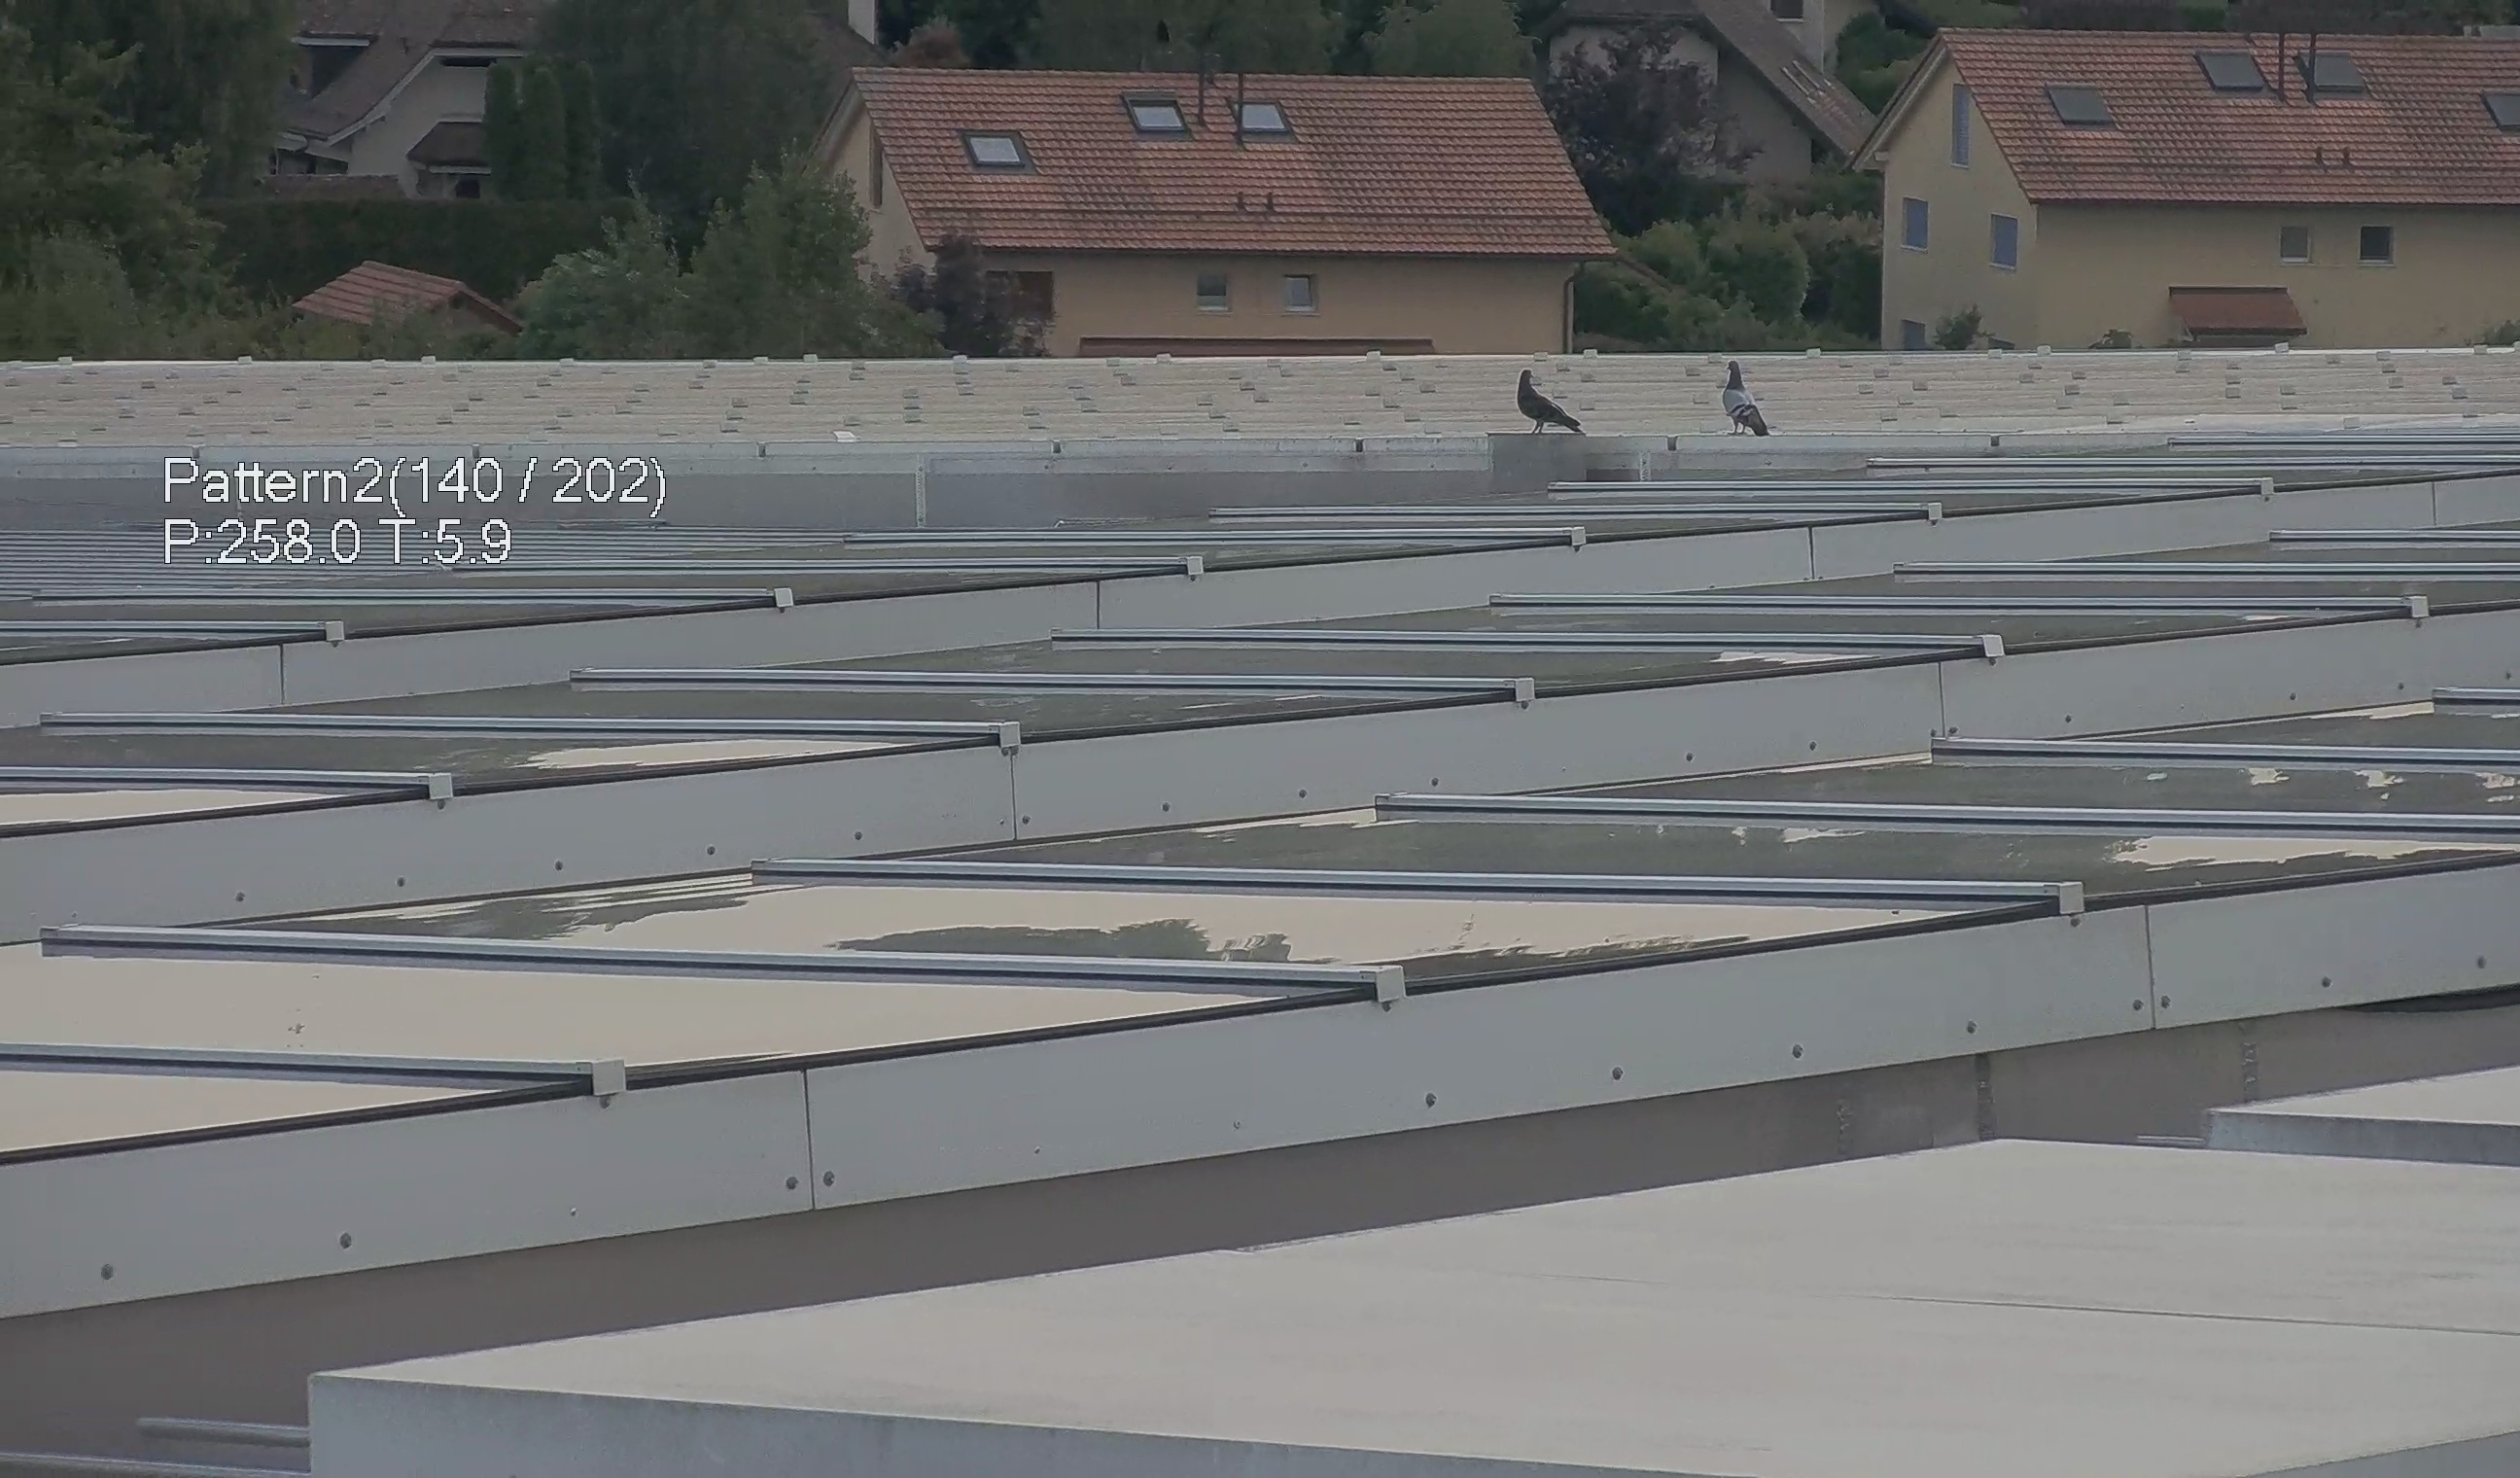Pigeon: (1514, 361, 1593, 436), (1718, 354, 1780, 445)
